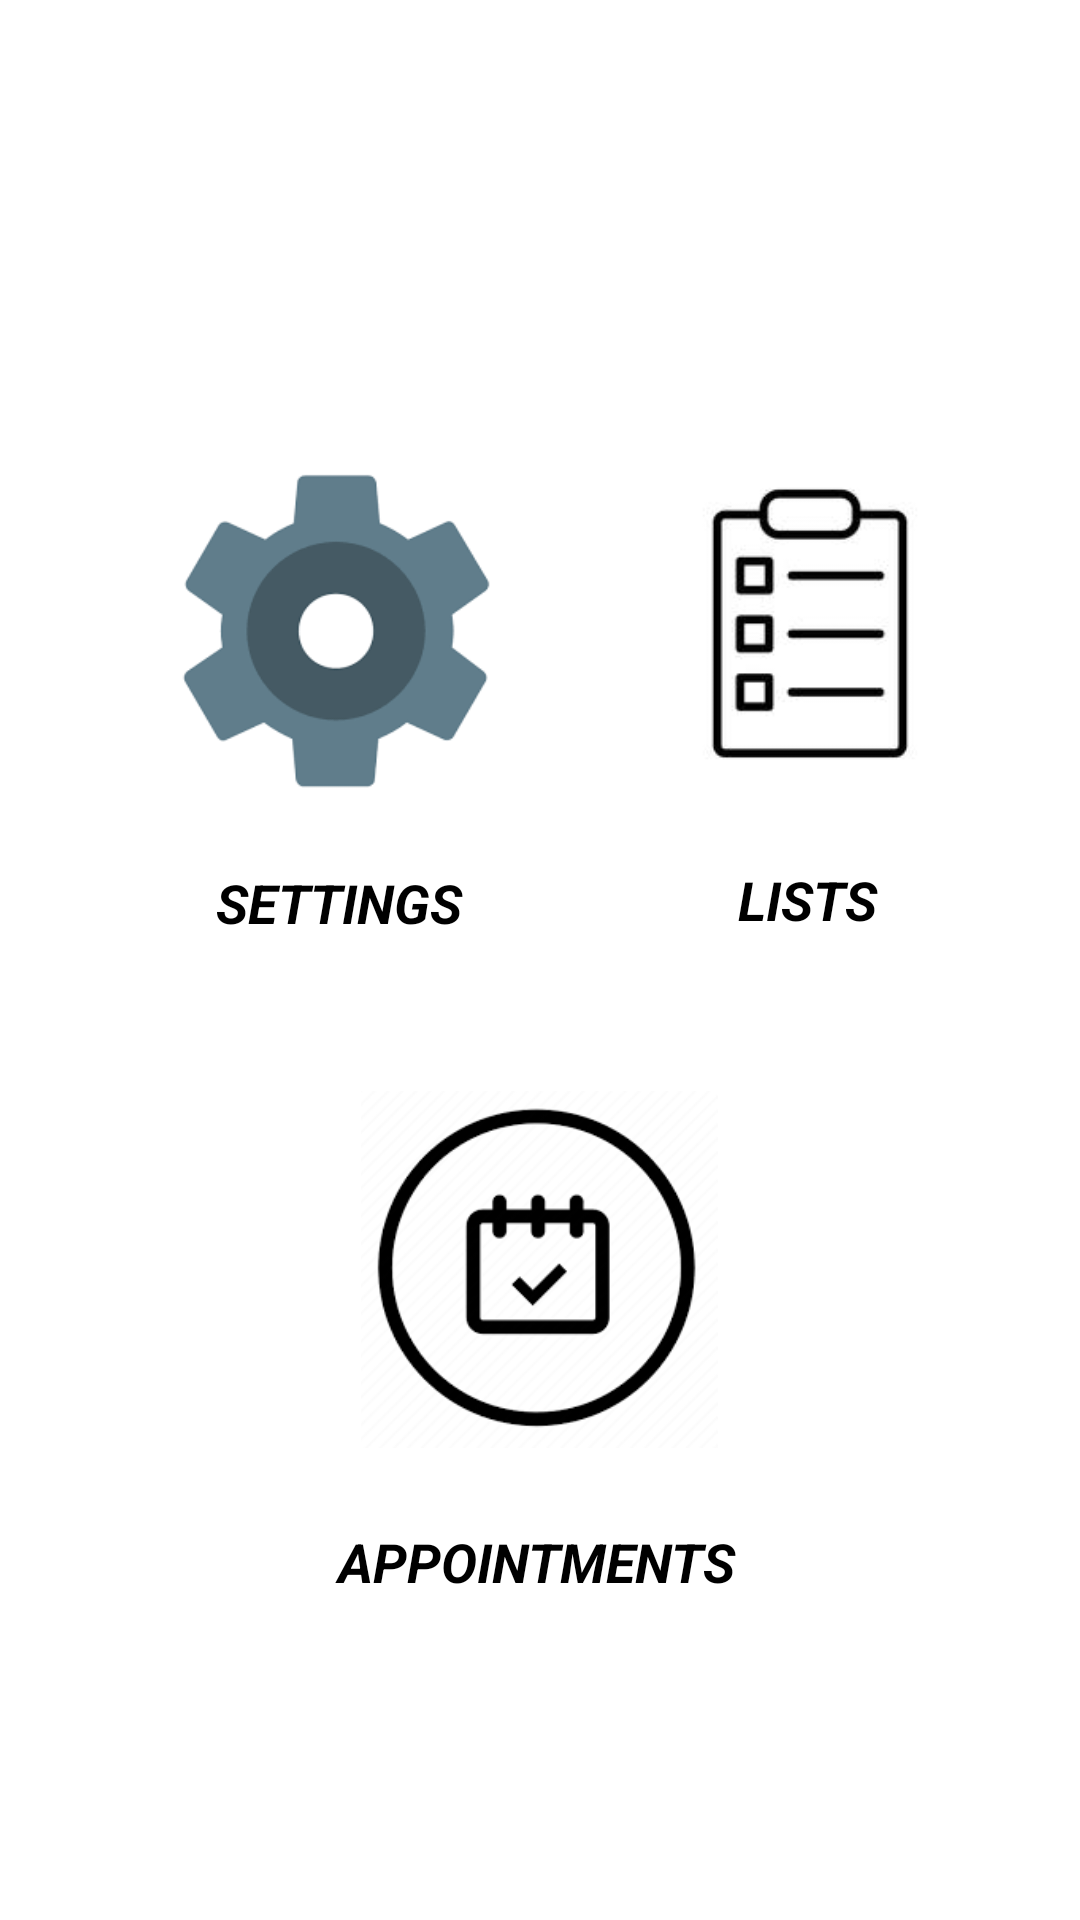

Icon bounding boxes for this 1080 × 1920 phone screenshot, format box=[x1, y1, x2, y2]:
listicon: box=[712, 489, 908, 758]
